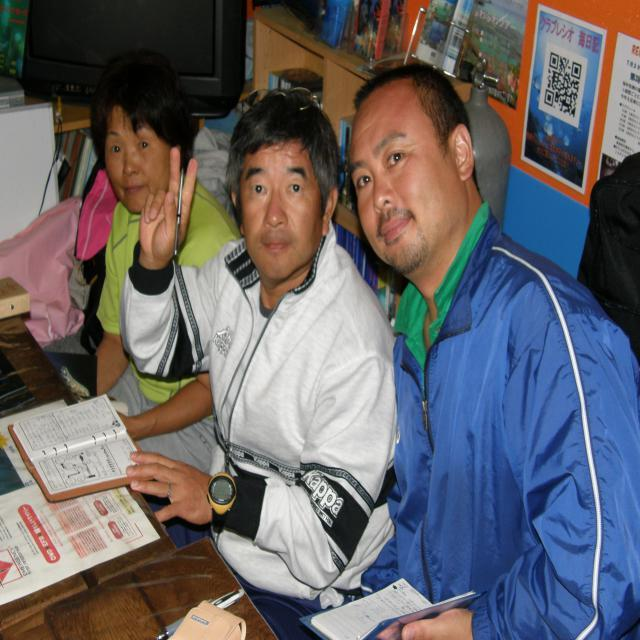qrcode: (545, 53, 582, 119)
